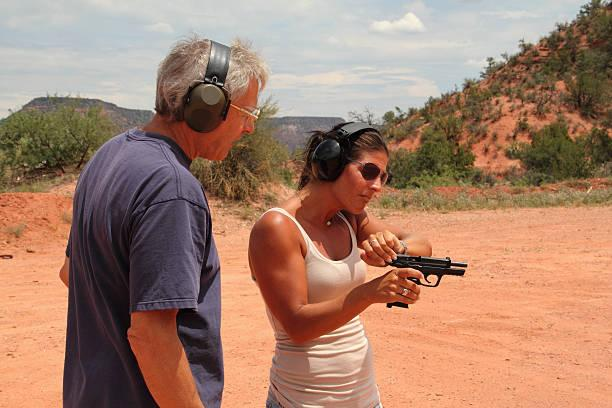weapon: (385, 248, 469, 311)
